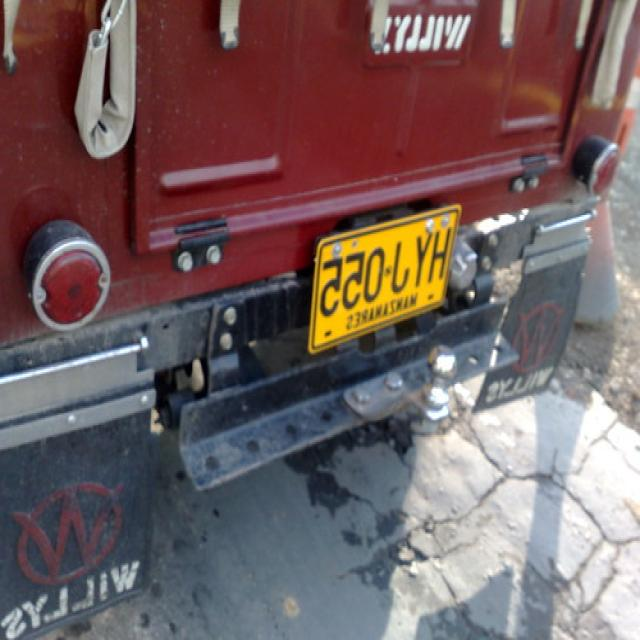placas: (316, 214, 457, 319)
